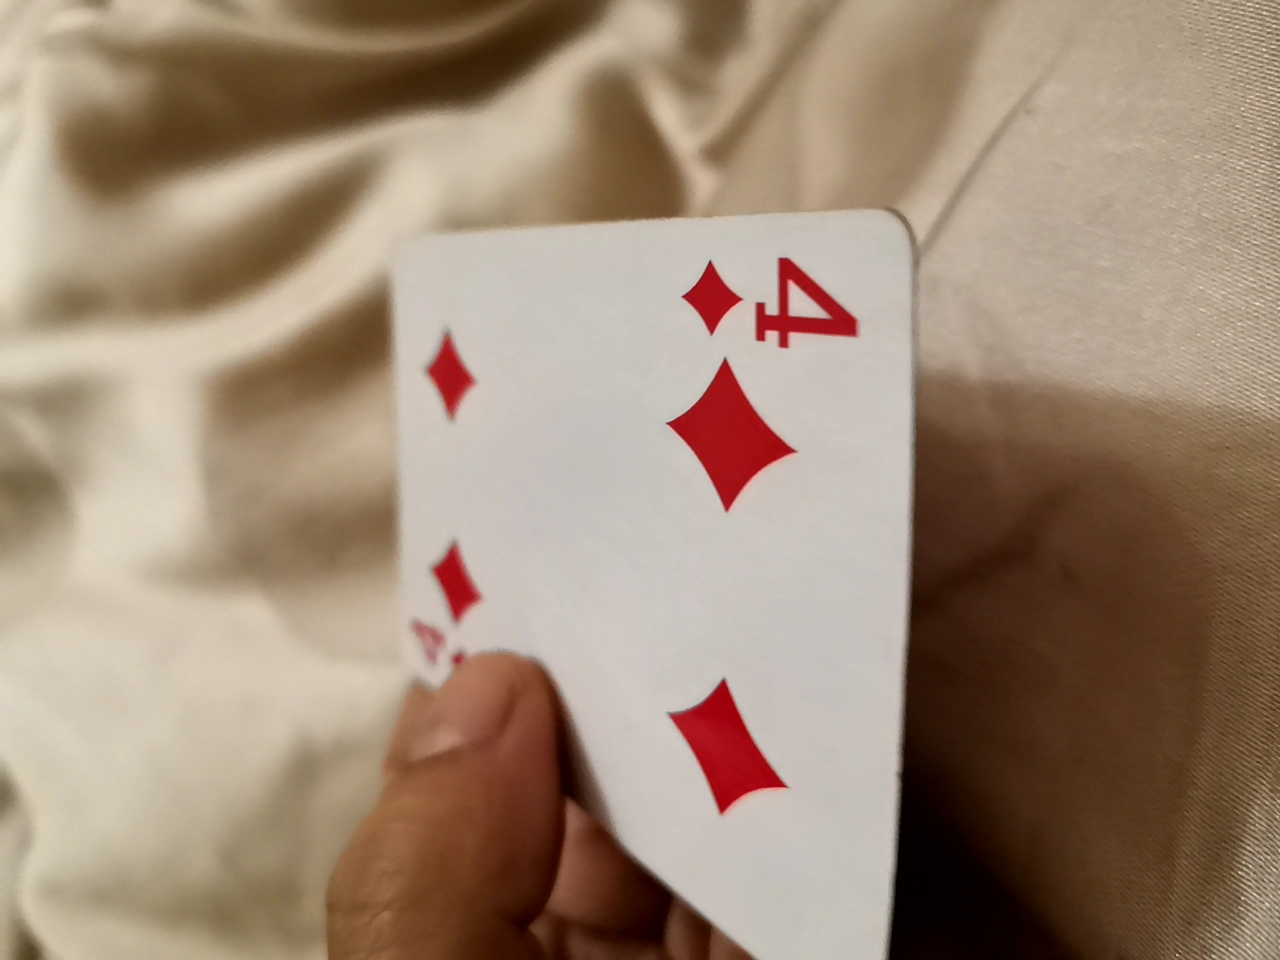fk 4: (341, 199, 879, 938)
